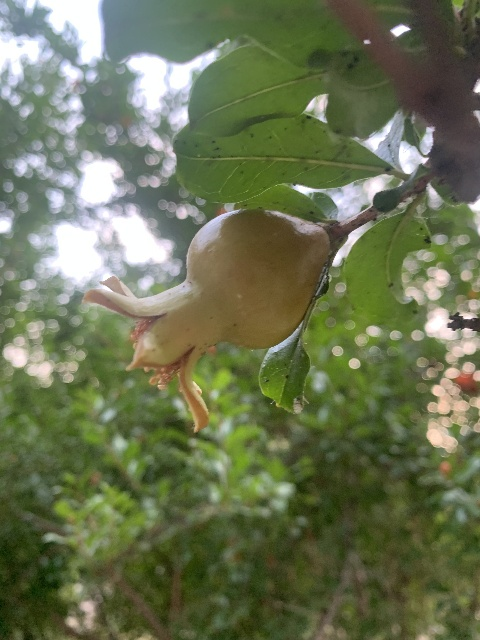mid-growth: (81, 207, 330, 434)
